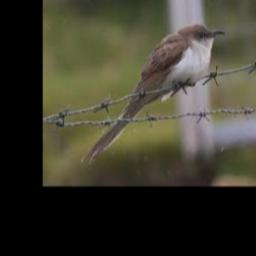Cuckoo: (80, 24, 225, 163)
